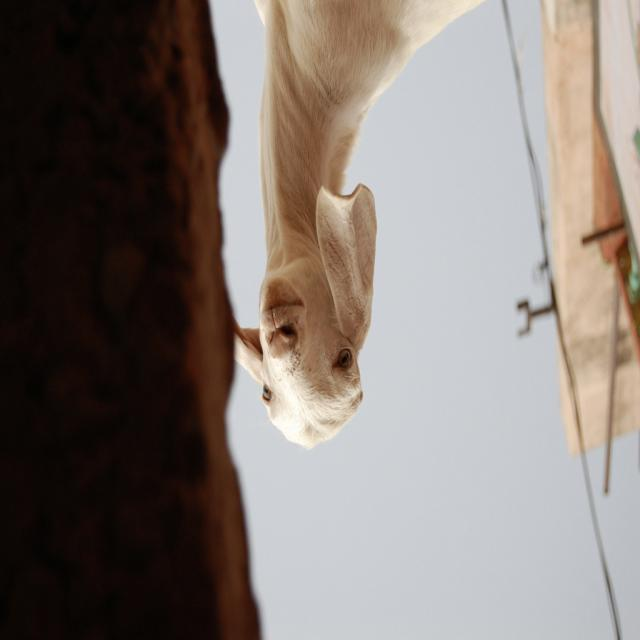Goat: (229, 2, 485, 451)
